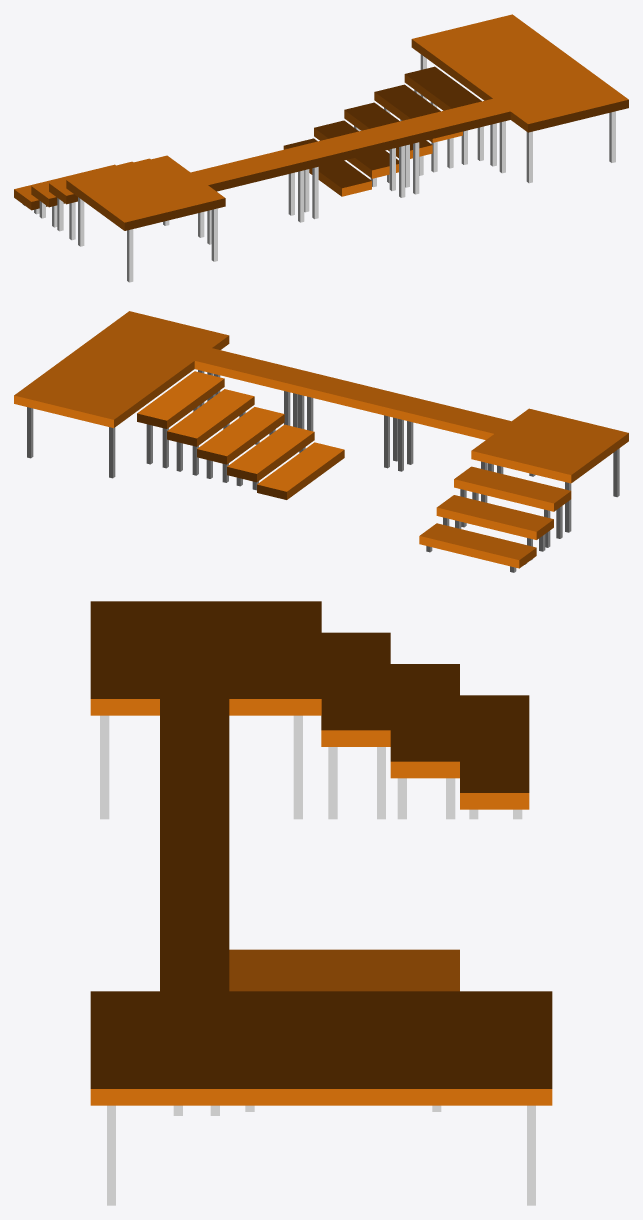
Rendered from staircases_koroibot.dae.
The picture shows the model from 3 angles, top to bottom: view 1: azimuth 30°, elevation 25°; view 2: azimuth 150°, elevation 25°; view 3: azimuth 270°, elevation 25°; orthographic projection. The views are drawn at different scales.
Visible parts, largest first — view 1: node (×13); view 2: node (×13); view 3: node (×17).
Part boxes in pixels (left/top/right/bottom): node (×13): left=14, top=14, right=628, bottom=230; node (×13): left=14, top=311, right=628, bottom=568; node (×17): left=90, top=601, right=552, bottom=1205.
Bounding box in the file's own units: 5 × 2 × 0.6.
